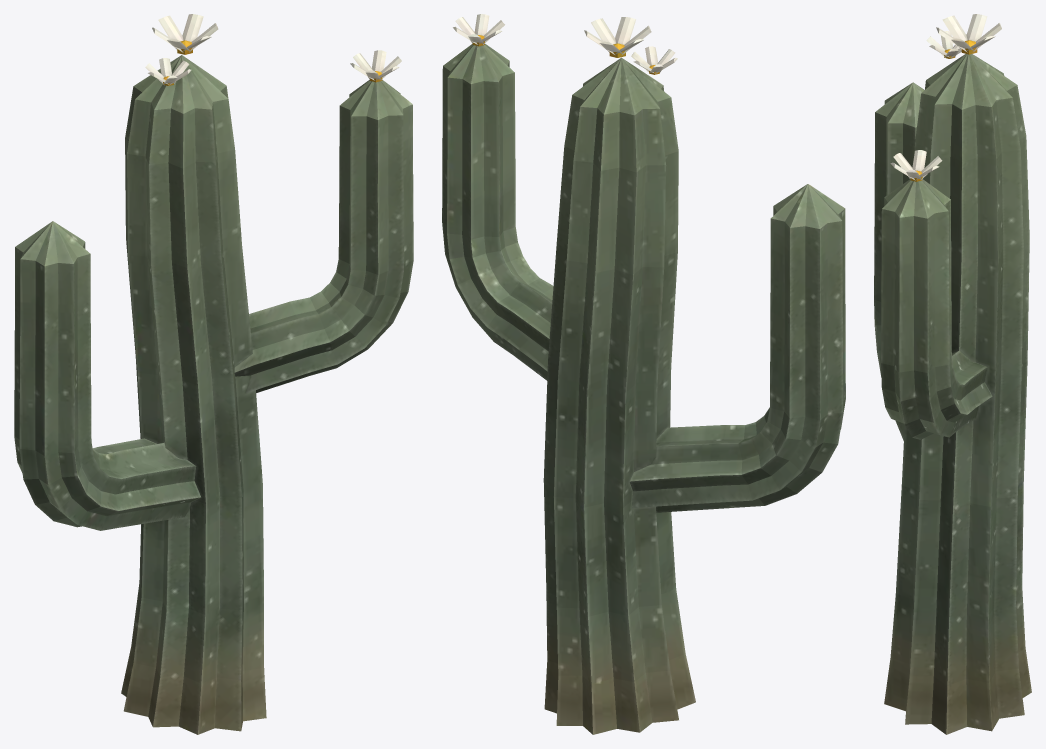
The model's file is cactus_1.glb.
The picture shows the model from 3 angles, left to right: view 1: azimuth 30°, elevation 25°; view 2: azimuth 150°, elevation 25°; view 3: azimuth 270°, elevation 25°; orthographic projection.
Visible parts, largest first — view 1: Static_Mesh; view 2: Static_Mesh; view 3: Static_Mesh.
Part boxes in pixels (x1,y1,x2,y2): Static_Mesh: (14, 14, 413, 734); Static_Mesh: (442, 14, 845, 734); Static_Mesh: (874, 14, 1031, 734).
Size of the model in its own units: 2.06 by 3.44 by 0.728.
1 material, 1 textured.
